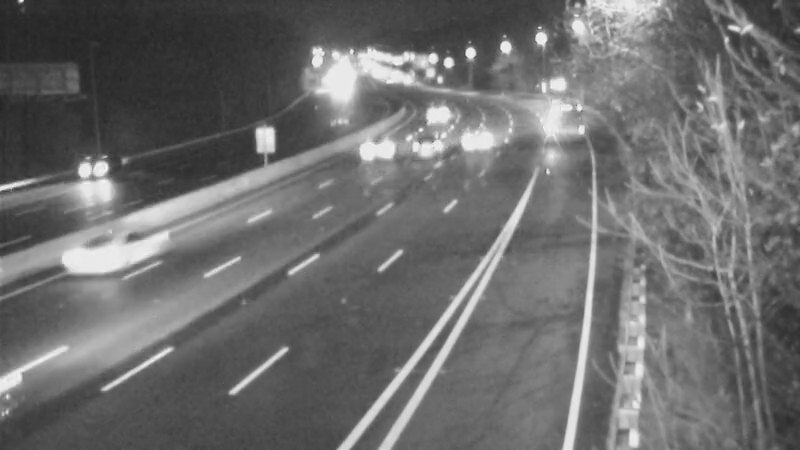vehicle: (1, 341, 90, 450), (335, 113, 415, 193), (59, 218, 139, 298), (58, 134, 138, 214), (521, 86, 571, 136), (407, 89, 457, 139), (454, 119, 504, 169), (397, 114, 447, 164)
